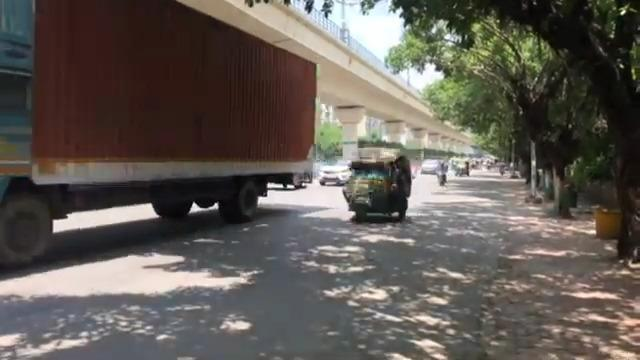Auto: (341, 151, 410, 222)
Bus: (0, 0, 317, 268)
